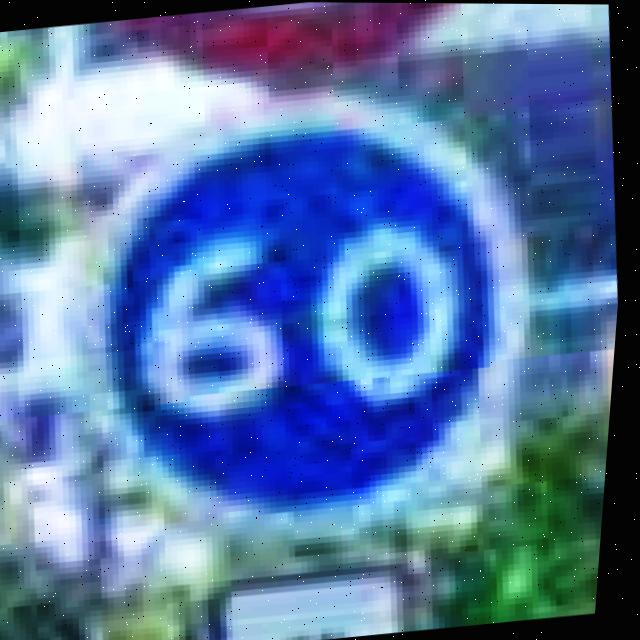min60: (64, 76, 560, 532)
